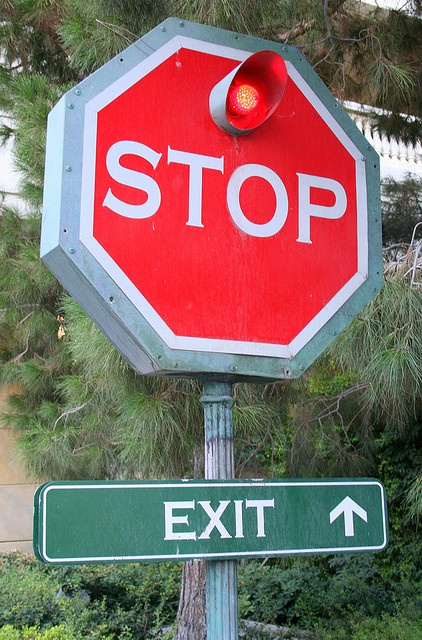Stop Signal: (50, 17, 391, 411)
